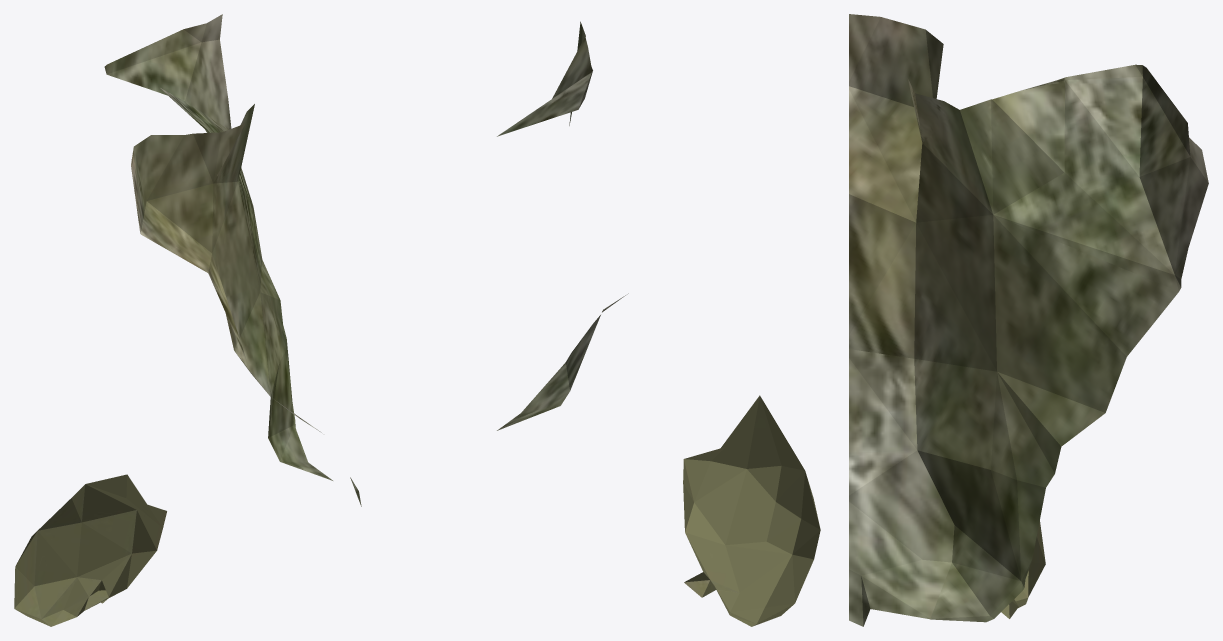
The picture shows the model from 3 angles, left to right: view 1: azimuth 30°, elevation 25°; view 2: azimuth 150°, elevation 25°; view 3: azimuth 270°, elevation 25°; orthographic projection. The views are drawn at different scales.
Size of the model in its own units: 1.68 by 2.74 by 1.49.
2 materials, 2 textured.
